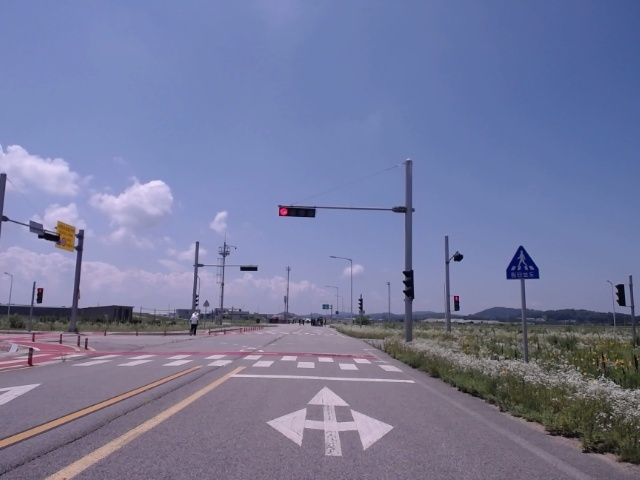red_4: (279, 208, 315, 217)
